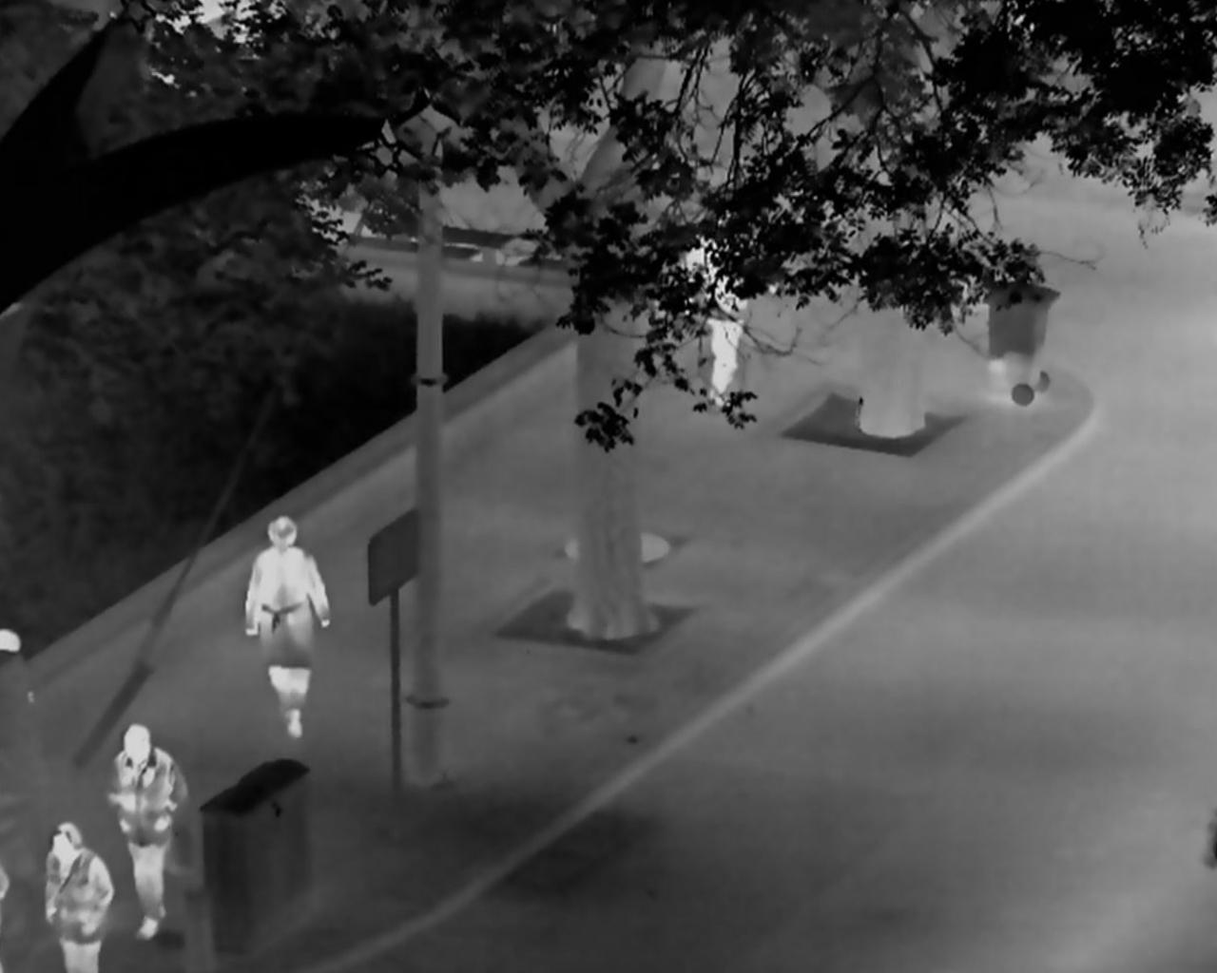person: (242, 514, 334, 741), (107, 722, 188, 939), (684, 203, 758, 412), (42, 820, 118, 973)
